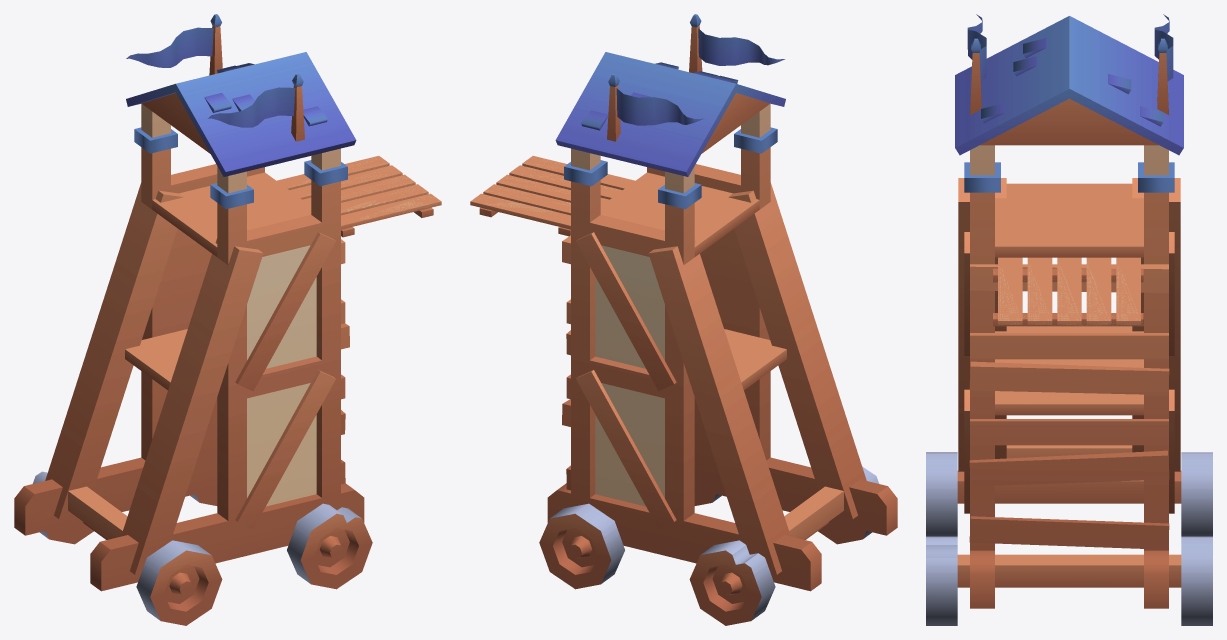
File: k-castle-siege-tower.glb
3 views of the same model, side by side, from view 1: azimuth 30°, elevation 25°; view 2: azimuth 150°, elevation 25°; view 3: azimuth 270°, elevation 25° (orthographic). The views are drawn at different scales.
Parts seen in each view (by area): view 1: siege-tower, wheel (×3); view 2: siege-tower, wheel (×3); view 3: siege-tower, wheel (×4).
Boxes of the visible parts, <box> form: siege-tower: <box>14,14,441,591</box>; wheel (×3): <box>32,471,372,625</box>; siege-tower: <box>470,14,897,591</box>; wheel (×3): <box>539,466,879,625</box>; siege-tower: <box>955,14,1183,608</box>; wheel (×4): <box>926,452,1212,625</box>.
Bounding box in the file's own units: 1.97 × 2.68 × 1.21.
1 material, 1 textured.
